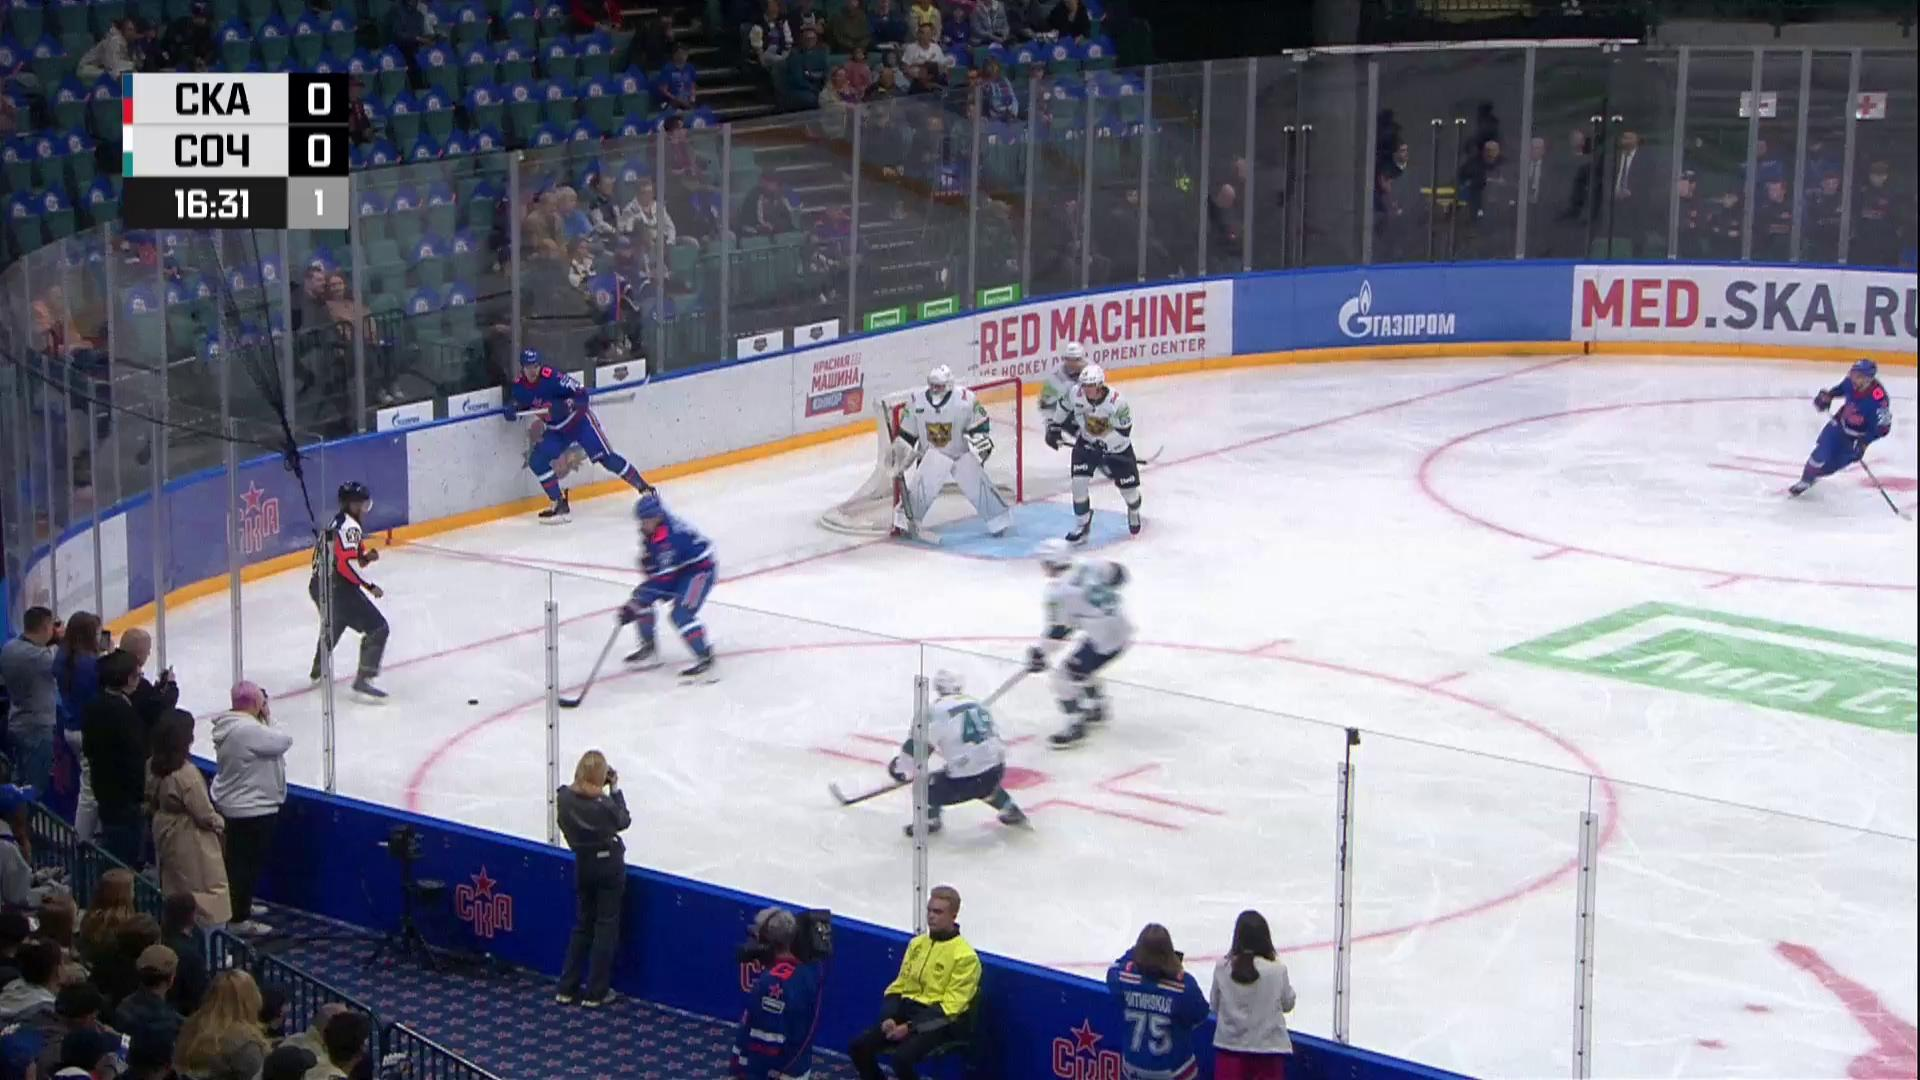ball: (467, 698, 480, 705)
